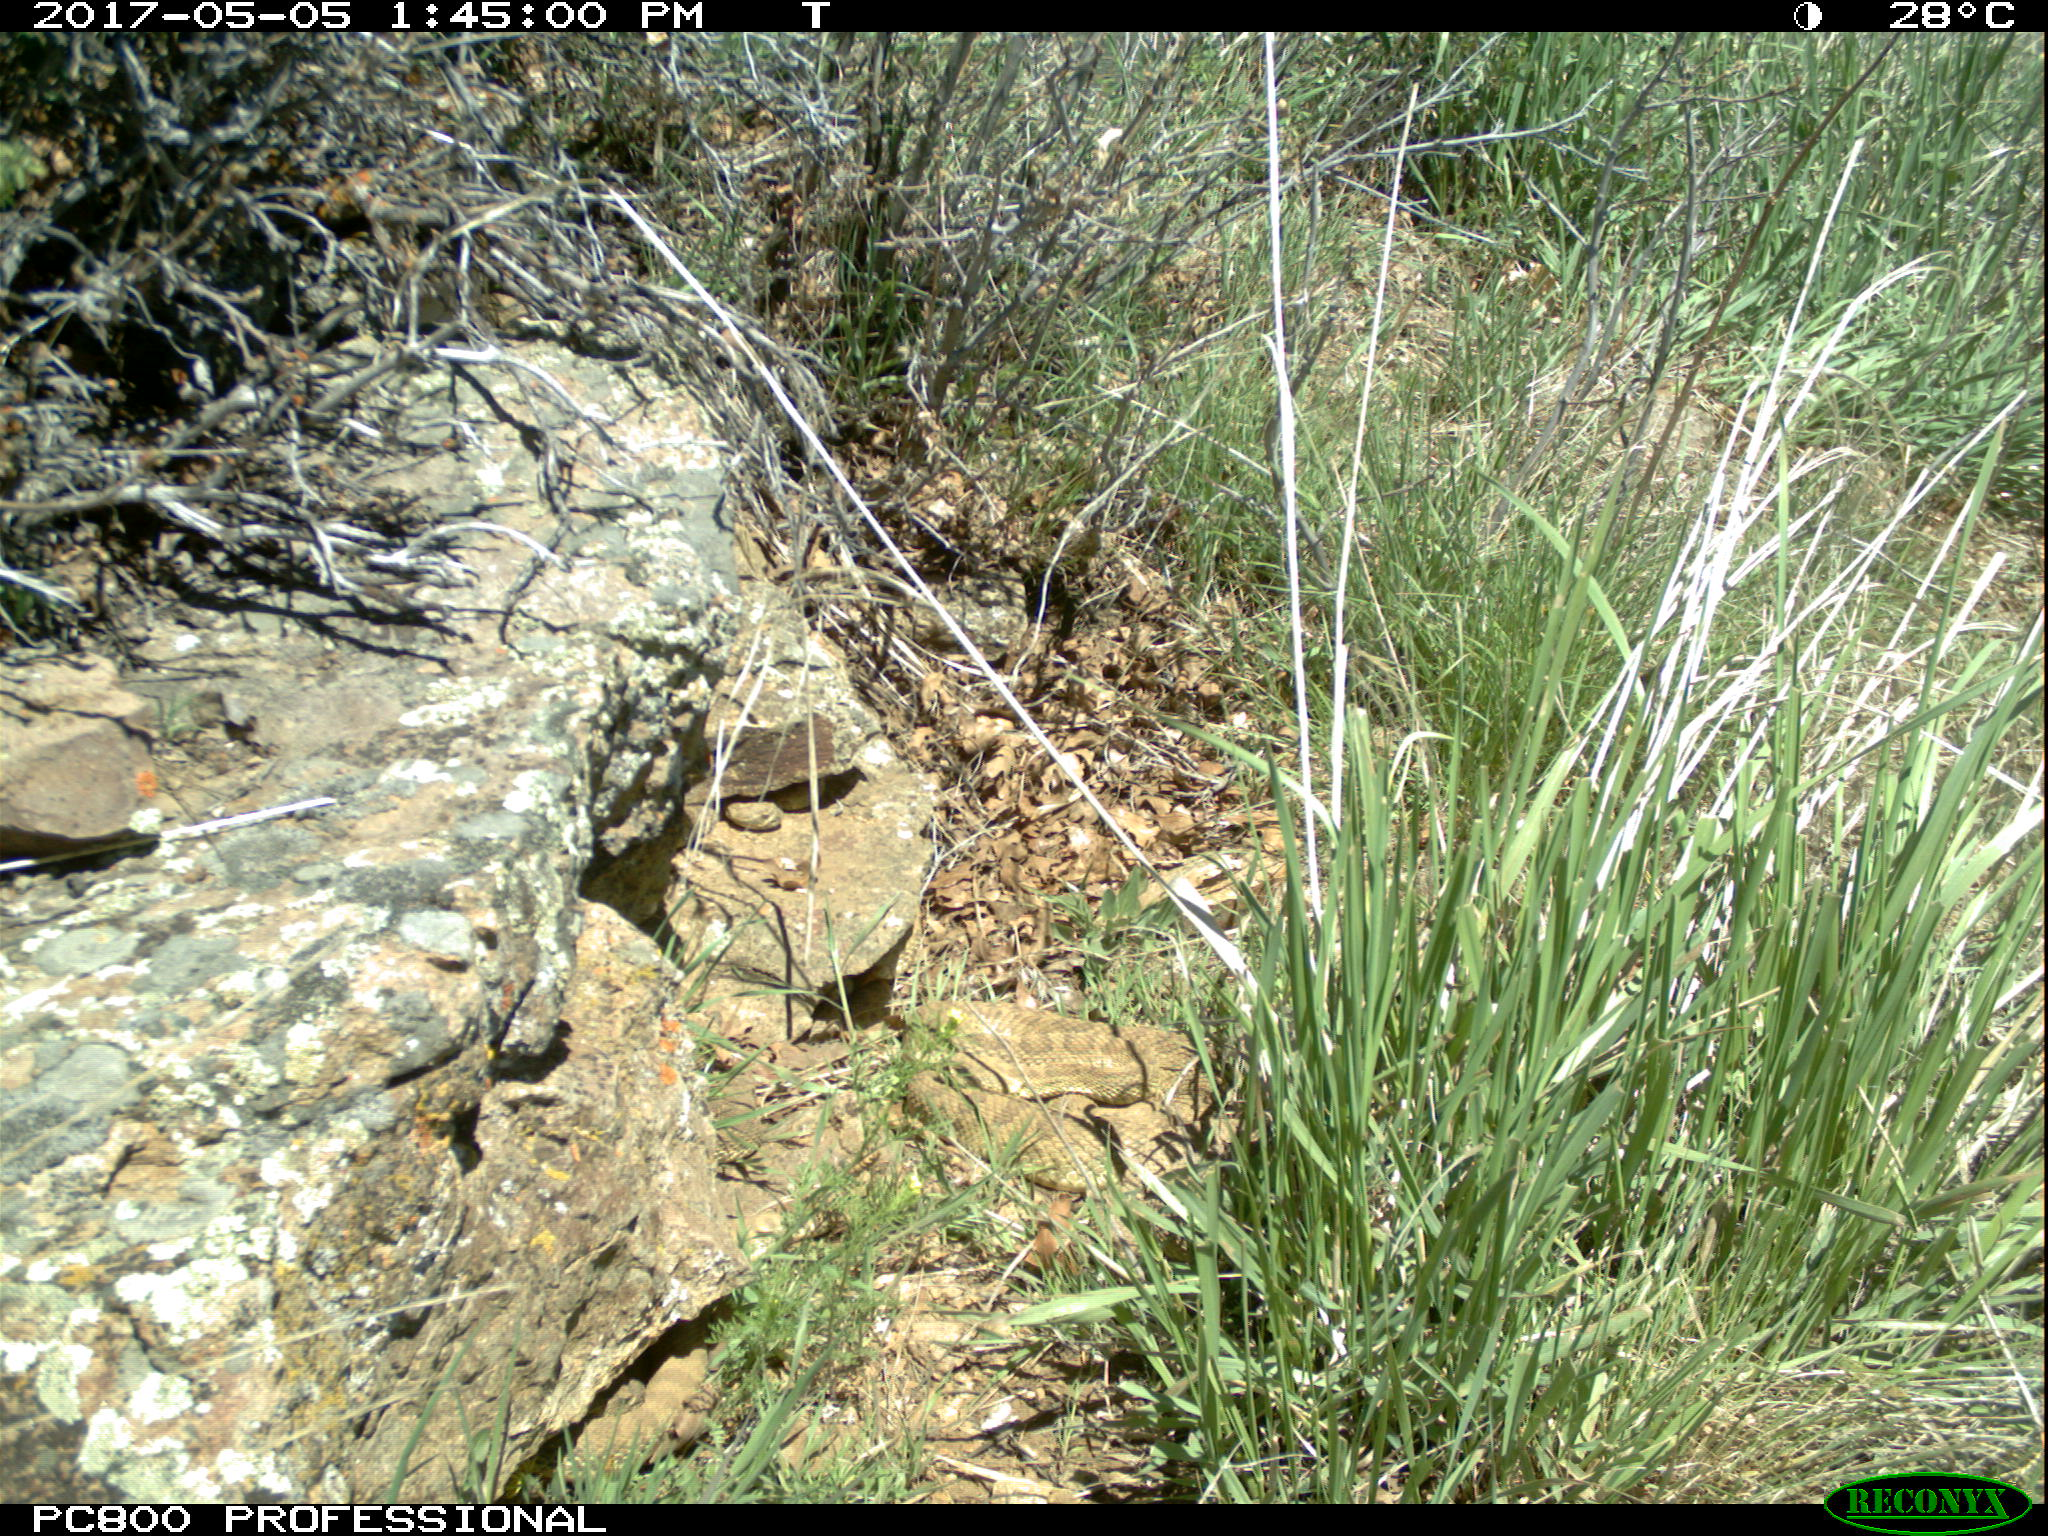snake: (908, 1000, 1234, 1184), (563, 1341, 756, 1471)
